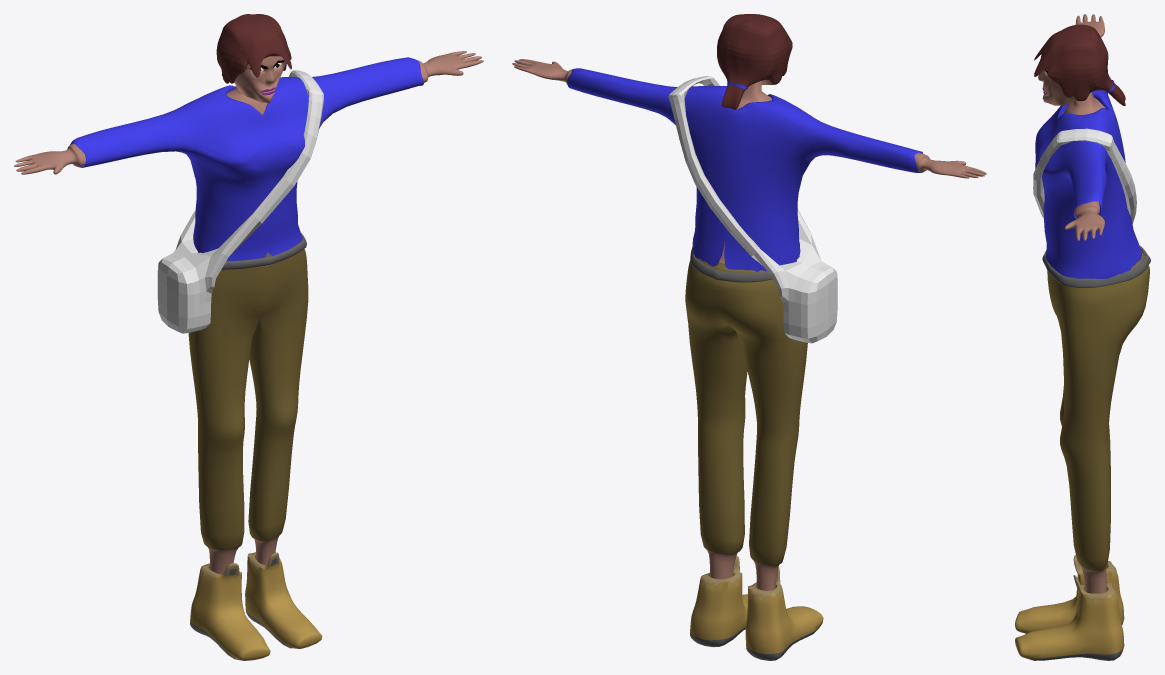
File: CharacterModelNoRigtest.fbx
3 views of the same model, side by side, from view 1: azimuth 30°, elevation 25°; view 2: azimuth 150°, elevation 25°; view 3: azimuth 270°, elevation 25° (orthographic).
Visible parts, largest first — view 1: Body, Shirt, Cube, Cube.001; view 2: Body, Shirt, Cube, Cube.001; view 3: Body, Shirt, Cube.001, Cube.
Part boxes in pixels (x1,y1,x2,y2): Body: (14,51,483,660); Shirt: (70,57,423,260); Cube: (157,70,323,333); Cube.001: (216,14,291,83); Body: (512,59,986,660); Shirt: (567,68,923,271); Cube: (668,76,837,343); Cube.001: (717,14,792,109); Body: (1015,14,1150,660); Shirt: (1035,90,1141,278); Cube.001: (1034,24,1125,105); Cube: (1033,128,1136,223).
Bounding box in the file's own units: 259 × 326 × 65.74.
